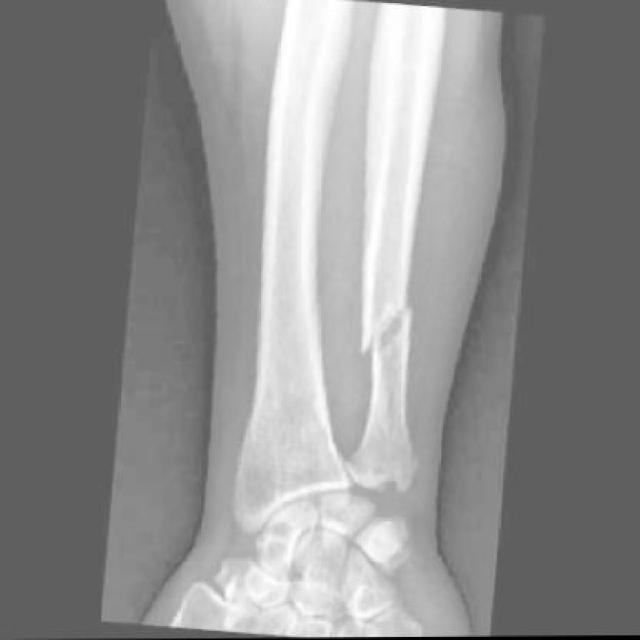Fracture: (352, 297, 414, 368)
